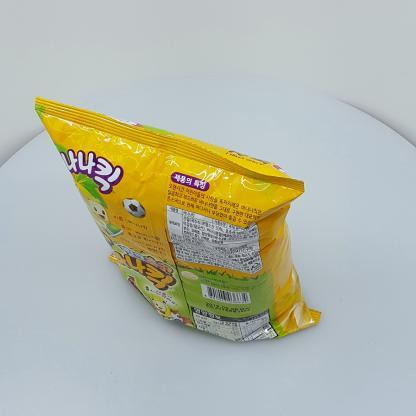Plastic Packaging: (31, 88, 335, 348)
